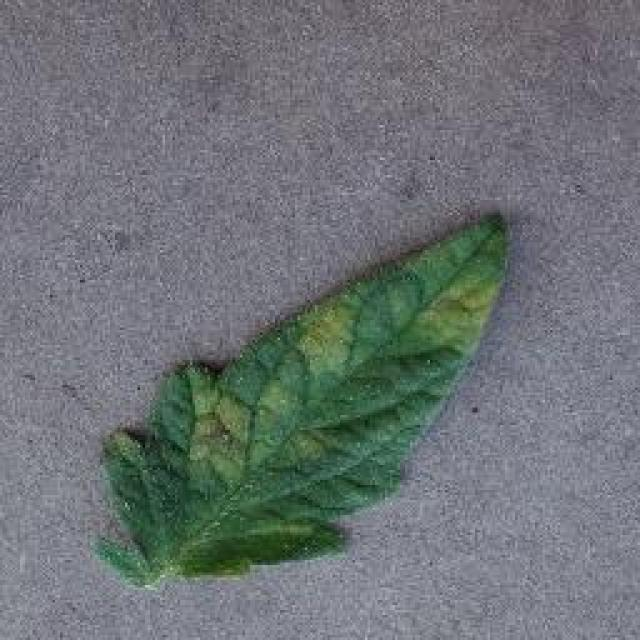Tomato___Leaf_Mold: (95, 215, 510, 590)
